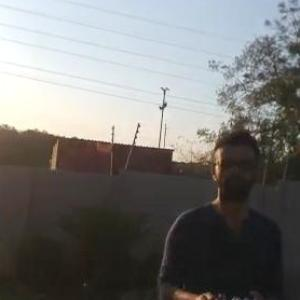follow: (152, 127, 289, 299)
